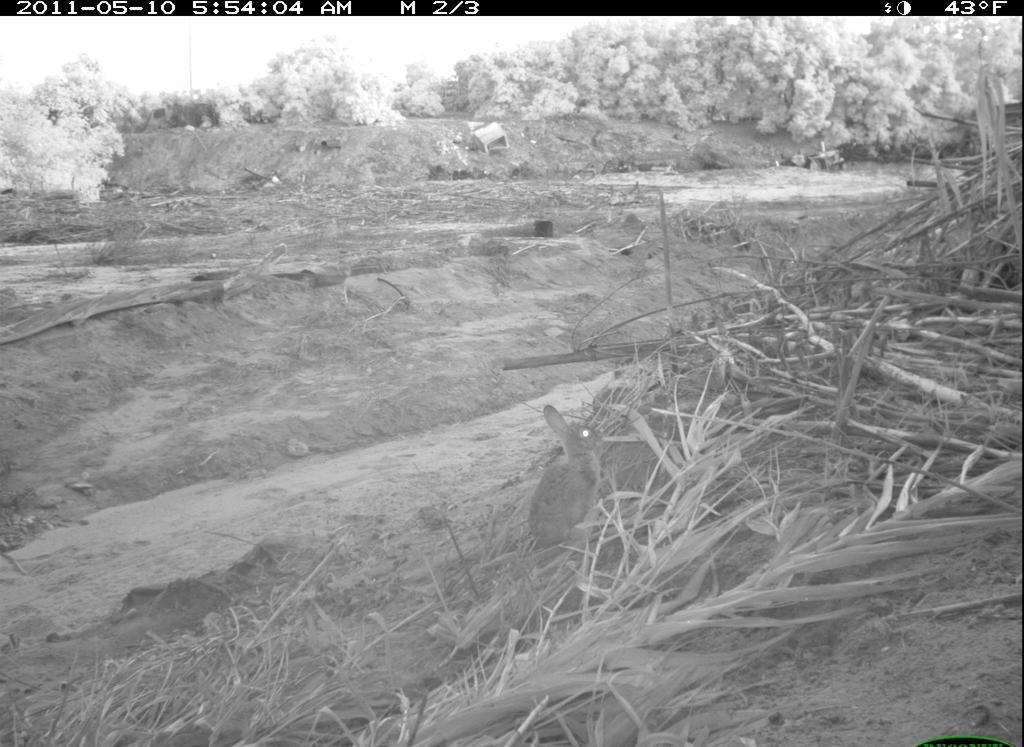rabbit: (521, 395, 620, 570)
